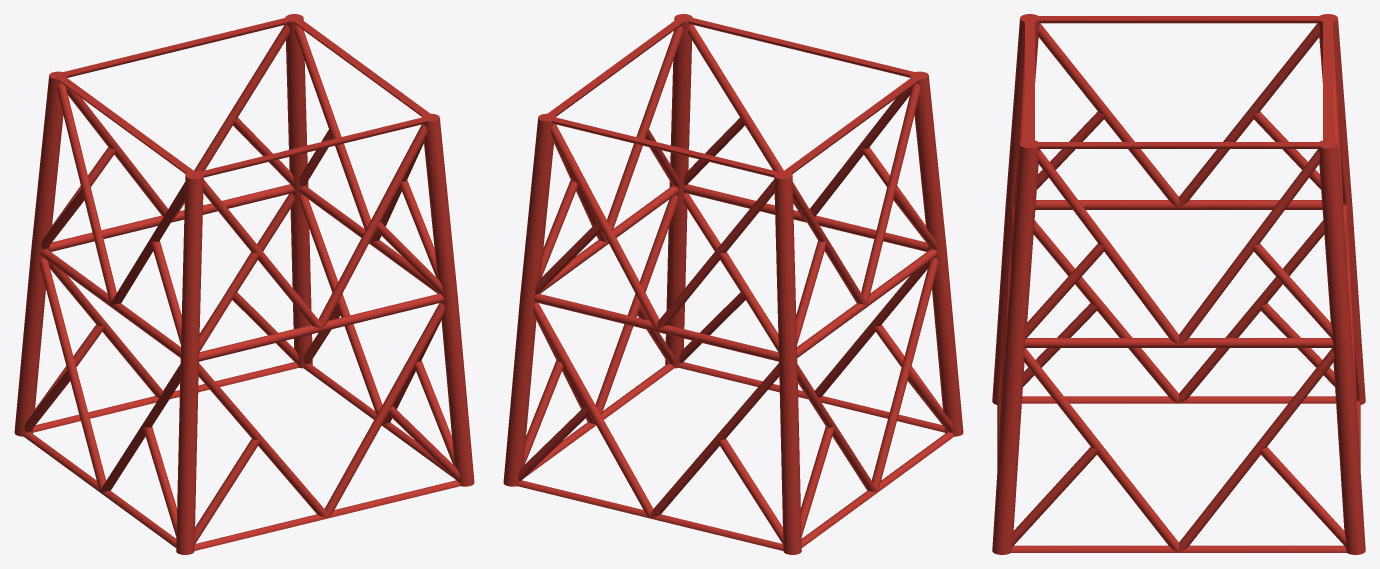
3 renders of one model, left to right at view 1: azimuth 30°, elevation 25°; view 2: azimuth 150°, elevation 25°; view 3: azimuth 270°, elevation 25°, orthographic. The views are drawn at different scales.
Visible parts, largest first — view 1: H13-H15; view 2: H13-H15; view 3: H13-H15.
Part boxes in pixels (left/top/right/bottom): H13-H15: left=14, top=14, right=474, bottom=554; H13-H15: left=503, top=14, right=963, bottom=554; H13-H15: left=992, top=14, right=1365, bottom=554.
Size of the model in its own units: 18.6 by 21.7 by 18.6.
